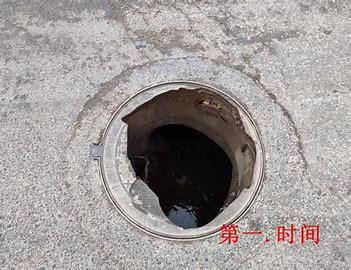wellcover: (79, 77, 270, 246)
